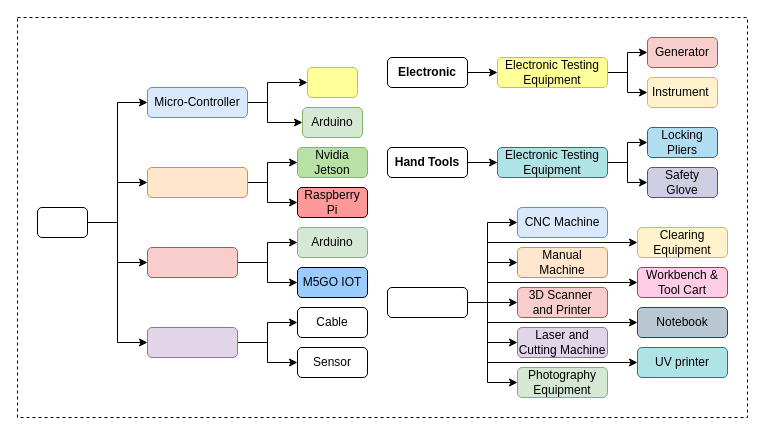
This 765x435 diagram has some shape labels left out. The centre of each missing label's shape, as x and y in pixels:
"Accessories" belongs at (x=192, y=342).
"Equipment" belongs at (x=427, y=302).
"ESP32" belongs at (x=332, y=82).
"IoT" belongs at (x=62, y=222).
"Micro-Computer" belongs at (x=197, y=182).
"Starter Kit" belongs at (x=192, y=262).
